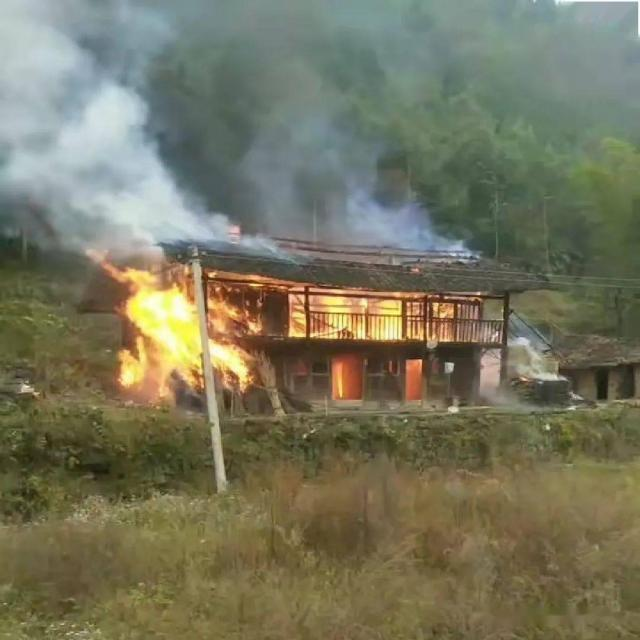Fire: (115, 276, 202, 386), (212, 336, 247, 386)
Smoke: (0, 0, 231, 248), (242, 110, 432, 248)
